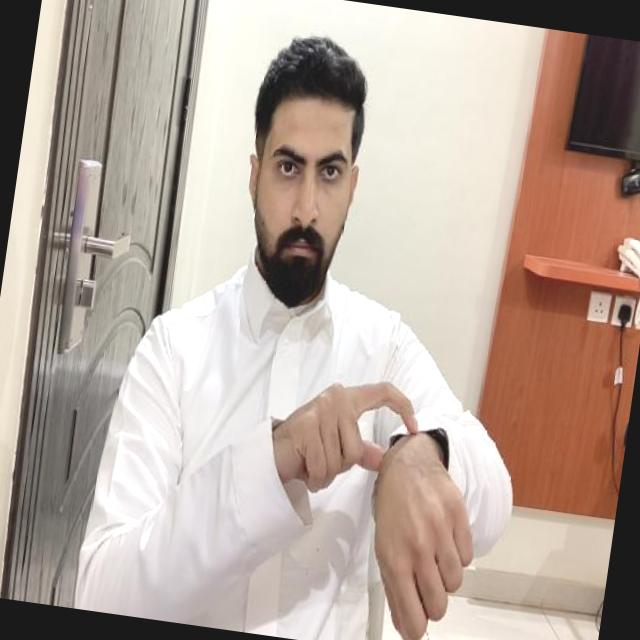appointment: (241, 362, 498, 640)
